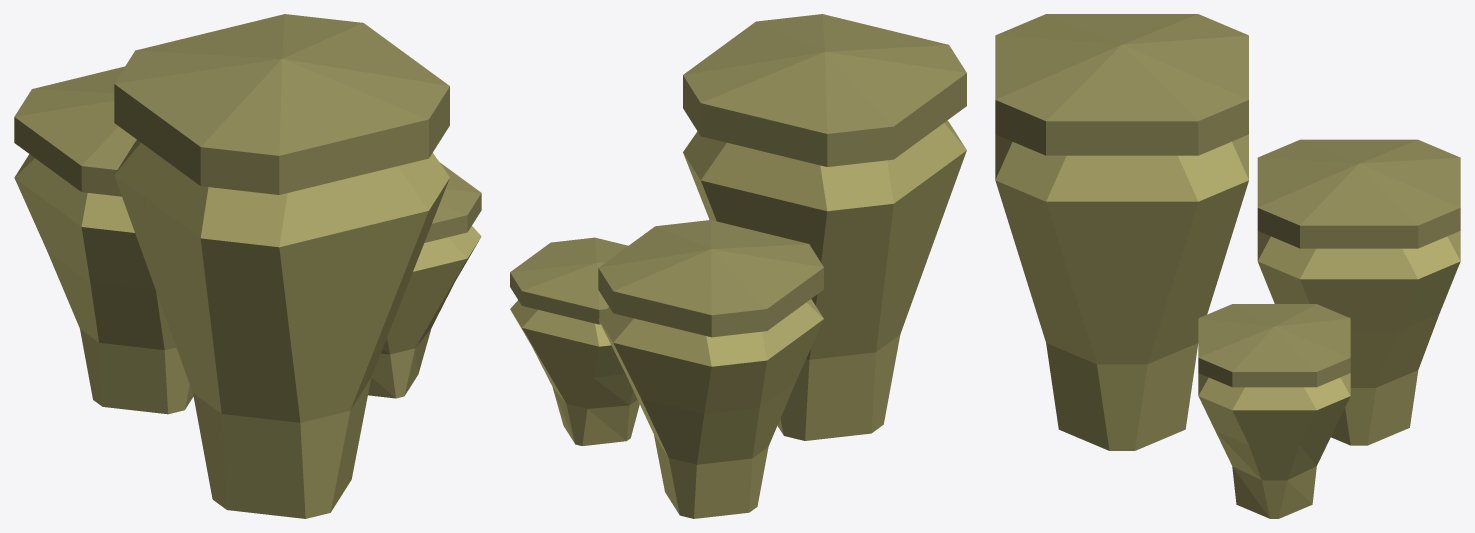
File: obj_basket_4_0.obj
3 views of the same model, side by side, from view 1: azimuth 30°, elevation 25°; view 2: azimuth 150°, elevation 25°; view 3: azimuth 270°, elevation 25° (orthographic). The views are drawn at different scales.
Bounding box in the file's own units: 0.7266 × 0.7734 × 0.8594.
